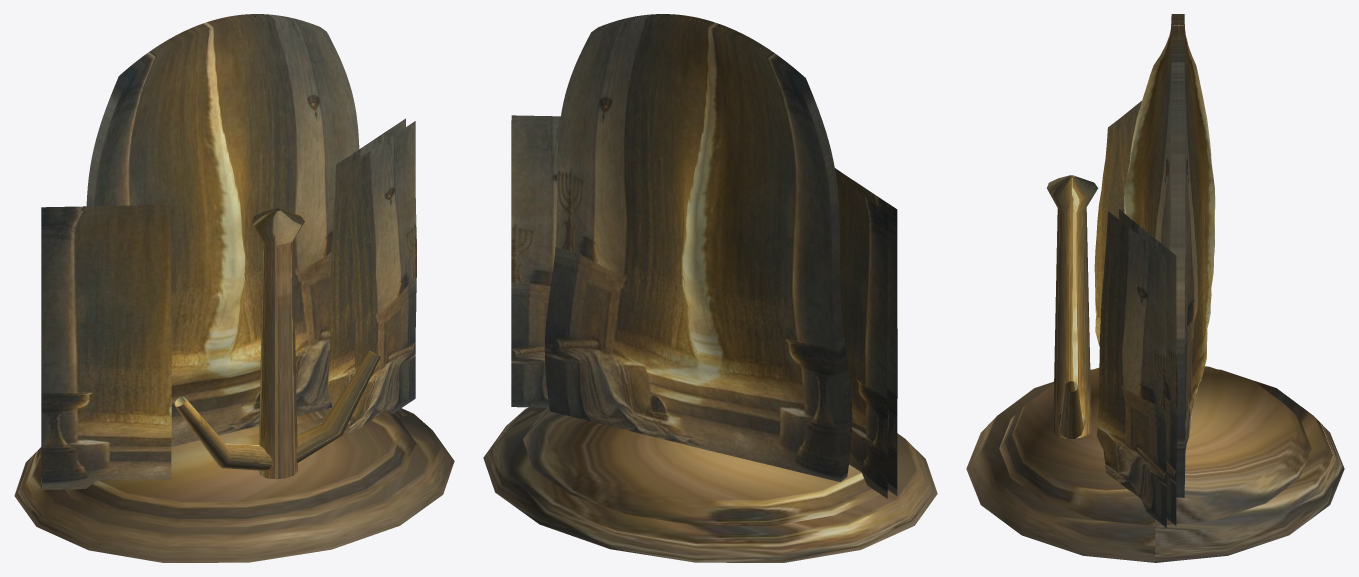
File: anchor-of-the-soul-23.glb
3 renders of one model, left to right at view 1: azimuth 30°, elevation 25°; view 2: azimuth 150°, elevation 25°; view 3: azimuth 270°, elevation 25°, orthographic. The views are drawn at different scales.
Visible parts, largest first — view 1: PaintingSculptureMonument; view 2: PaintingSculptureMonument; view 3: PaintingSculptureMonument.
Boxes of the visible parts, left/top/right/bottom form: PaintingSculptureMonument: left=14, top=14, right=454, bottom=562; PaintingSculptureMonument: left=483, top=14, right=937, bottom=562; PaintingSculptureMonument: left=966, top=14, right=1344, bottom=562.
Size of the model in its own units: 2.76 by 2.99 by 2.35.
Materials: 1 (1 with a texture image).
